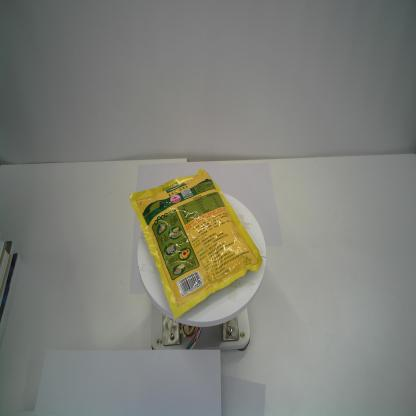Seasoner: (129, 168, 264, 322)
